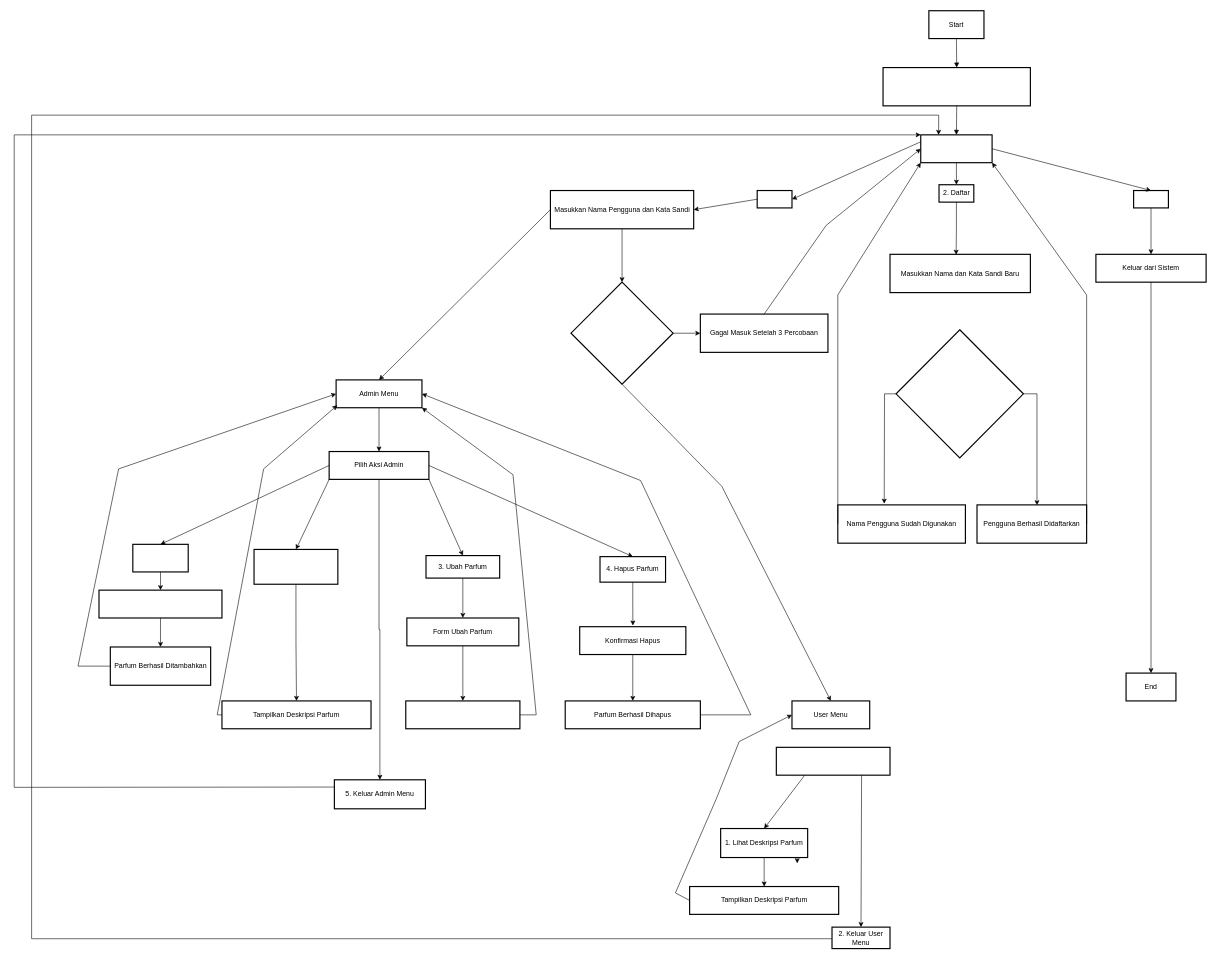
Image size: 1217x959. Some labels were removed from this diagram. Each missing label, with the centre of its shape:
1. Masuk: (774,199)
1. Tambah Parfum: (160,557)
2. Lihat Deskripsi Parfum: (295,567)
3. Keluar: (1151,199)
Form Tambah Parfum: (160,603)
Parfum Berhasil Diubah: (462,714)
Pilih Aksi: (956,148)
Pilih Aksi Pengguna: (832,760)
Selamat datang di Parfume by HMNS: (956,86)
Validasi Nama Pengguna: (959,393)
Validasi Pengguna: (621,333)
